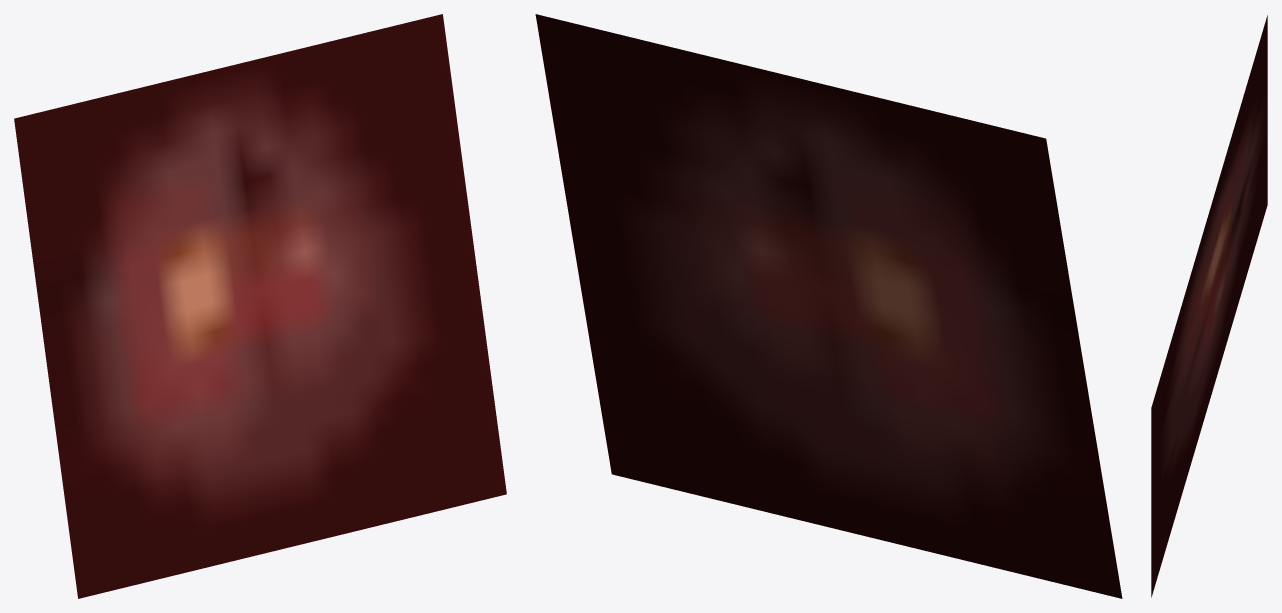
File: fg_seed_out.dae
The picture shows the model from 3 angles, left to right: view 1: azimuth 30°, elevation 25°; view 2: azimuth 150°, elevation 25°; view 3: azimuth 270°, elevation 25°; orthographic projection. The views are drawn at different scales.
Parts seen in each view (by area): view 1: fg_seed_out; view 2: fg_seed_out; view 3: fg_seed_out.
Boxes of the visible parts, x1,y1,x2,y2 form: fg_seed_out: [14, 14, 506, 598]; fg_seed_out: [535, 14, 1122, 598]; fg_seed_out: [1151, 15, 1267, 597].
Bounding box in the file's own units: 6 × 5.8 × 1.55.
1 material, 1 textured.
